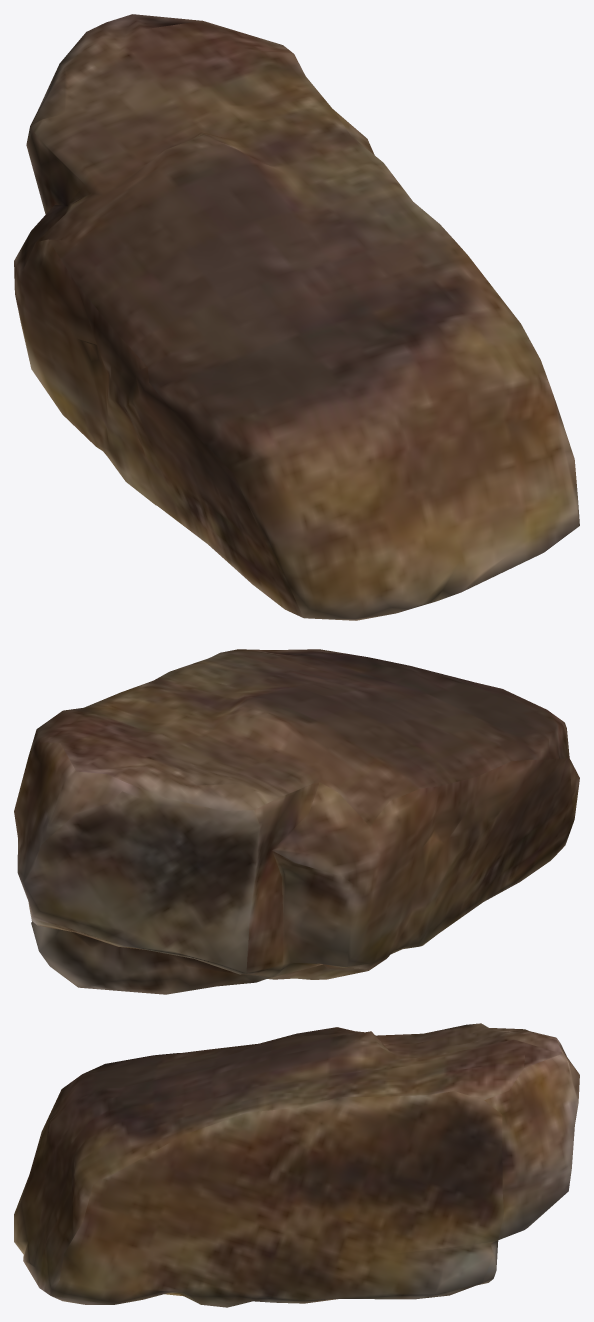
3 views of the same model, one above another, from view 1: azimuth 30°, elevation 25°; view 2: azimuth 150°, elevation 25°; view 3: azimuth 270°, elevation 25° (orthographic). The views are drawn at different scales.
Parts seen in each view (by area): view 1: rock_07_lod1; view 2: rock_07_lod1; view 3: rock_07_lod1.
Part boxes in pixels (x1,y1,x2,y2): rock_07_lod1: (14, 14, 579, 620); rock_07_lod1: (14, 649, 579, 994); rock_07_lod1: (14, 1023, 579, 1307).
Bounding box in the file's own units: 0.1671 × 0.1427 × 0.3178.
Materials: 1 (1 with a texture image).
